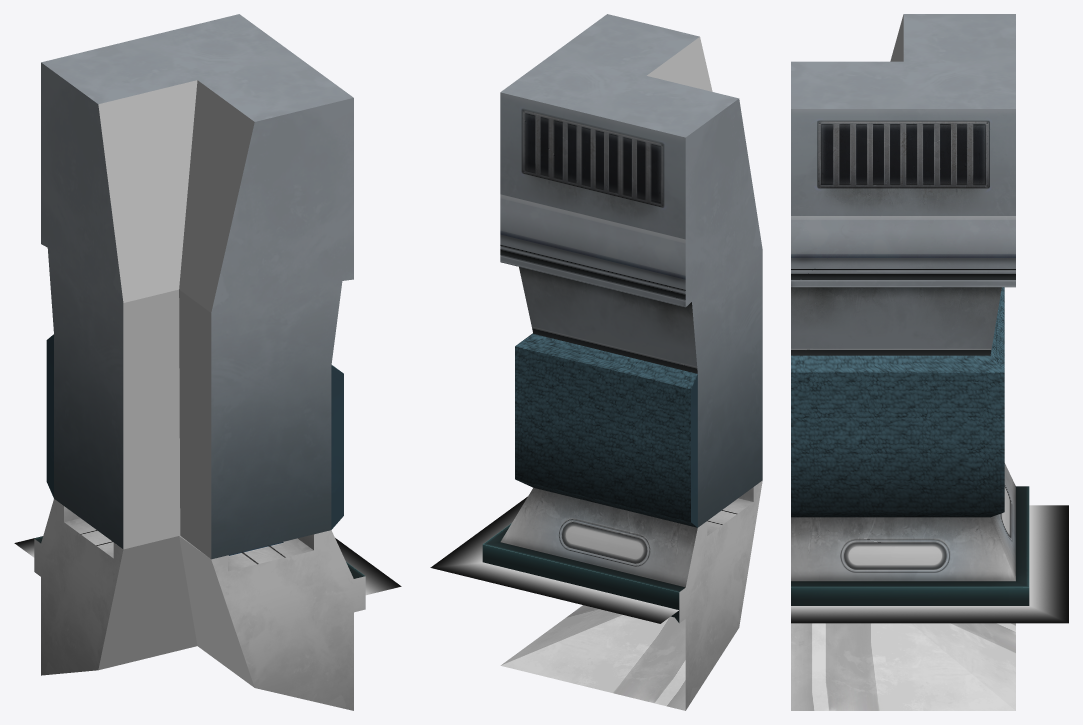
Rendered from Bar_InteriorCorner.fbx.
The picture shows the model from 3 angles, left to right: view 1: azimuth 30°, elevation 25°; view 2: azimuth 150°, elevation 25°; view 3: azimuth 270°, elevation 25°; orthographic projection. The views are drawn at different scales.
Visible parts, largest first — view 1: InteriorCorner_UP, InteriorCorner_DOWN; view 2: InteriorCorner_UP, InteriorCorner_DOWN; view 3: InteriorCorner_UP, InteriorCorner_DOWN.
Boxes of the visible parts, x1=… form: InteriorCorner_UP: x1=41, y1=14, x2=353, y2=559; InteriorCorner_DOWN: x1=14, y1=499, x2=401, y2=710; InteriorCorner_UP: x1=500, y1=14, x2=762, y2=527; InteriorCorner_DOWN: x1=430, y1=480, x2=762, y2=710; InteriorCorner_UP: x1=791, y1=14, x2=1015, y2=517; InteriorCorner_DOWN: x1=791, y1=463, x2=1068, y2=710.
Bounding box in the file's own units: 1.24 × 2.95 × 1.24.
